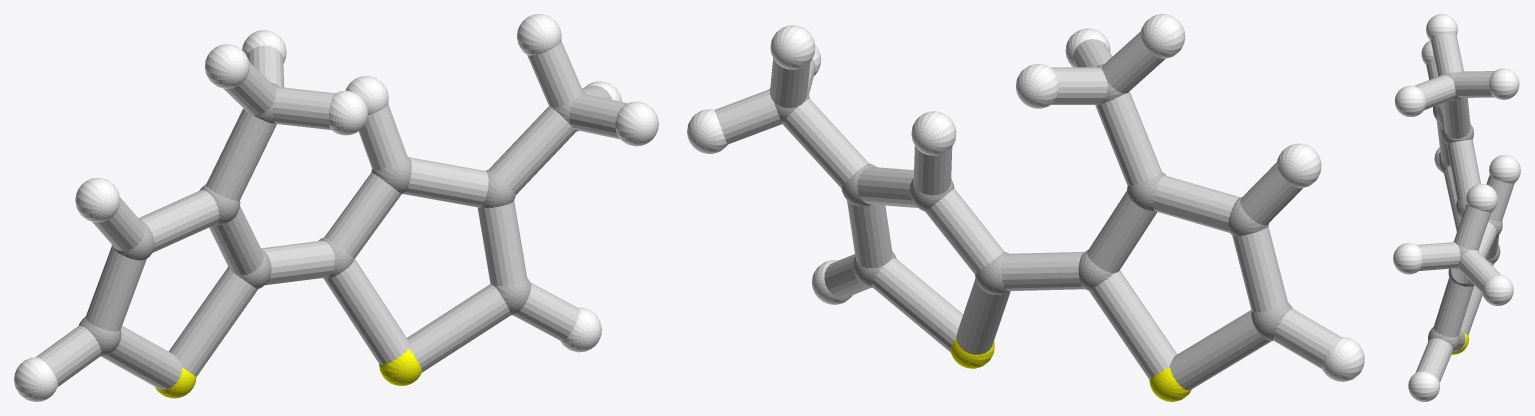
The model's file is Methylthiophene_Phi_25_Theta_160_Methylthiophene.glb.
The picture shows the model from 3 angles, left to right: view 1: azimuth 30°, elevation 25°; view 2: azimuth 150°, elevation 25°; view 3: azimuth 270°, elevation 25°; orthographic projection. The views are drawn at different scales.
Visible parts, largest first — view 1: grp7965, grp3621, grp1, grp7241; view 2: grp7965, grp3621, grp1, grp7241; view 3: grp7965, grp3621, grp1.
Boxes of the visible parts, box(x1,y1,x2,y2) form: grp7965: box(36, 41, 627, 389); grp3621: box(14, 14, 658, 401); grp1: box(79, 82, 586, 356); grp7241: box(155, 349, 421, 398); grp7965: box(714, 31, 1340, 390); grp3621: box(687, 14, 1364, 381); grp1: box(769, 64, 1292, 340); grp7241: box(950, 338, 1191, 401); grp7965: box(1414, 33, 1514, 382); grp3621: box(1393, 14, 1520, 401); grp1: box(1428, 72, 1502, 351).
Size of the model in its own units: 9.8 by 5.72 by 2.41.
